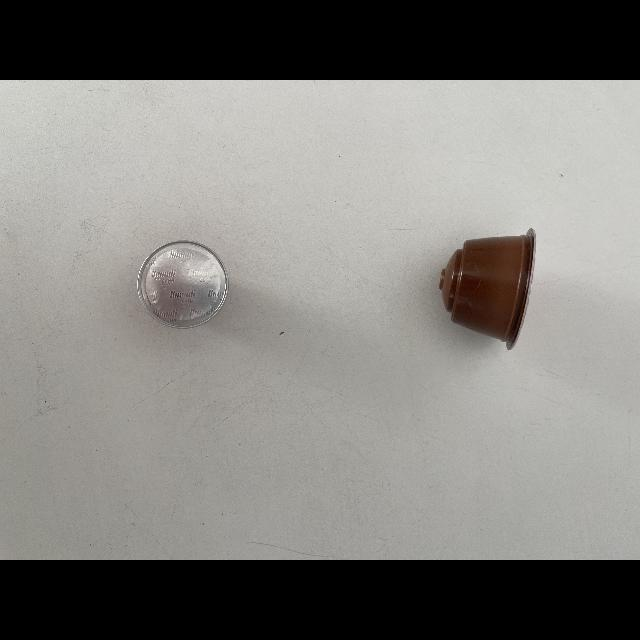intact_capsule: (431, 226, 547, 354), (133, 236, 234, 334)
